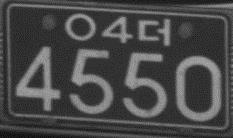0: (174, 54, 222, 122), (64, 12, 96, 41)
4: (14, 45, 60, 112), (101, 15, 133, 44)
5: (121, 52, 168, 119), (68, 47, 114, 114)
더: (137, 17, 171, 46)
